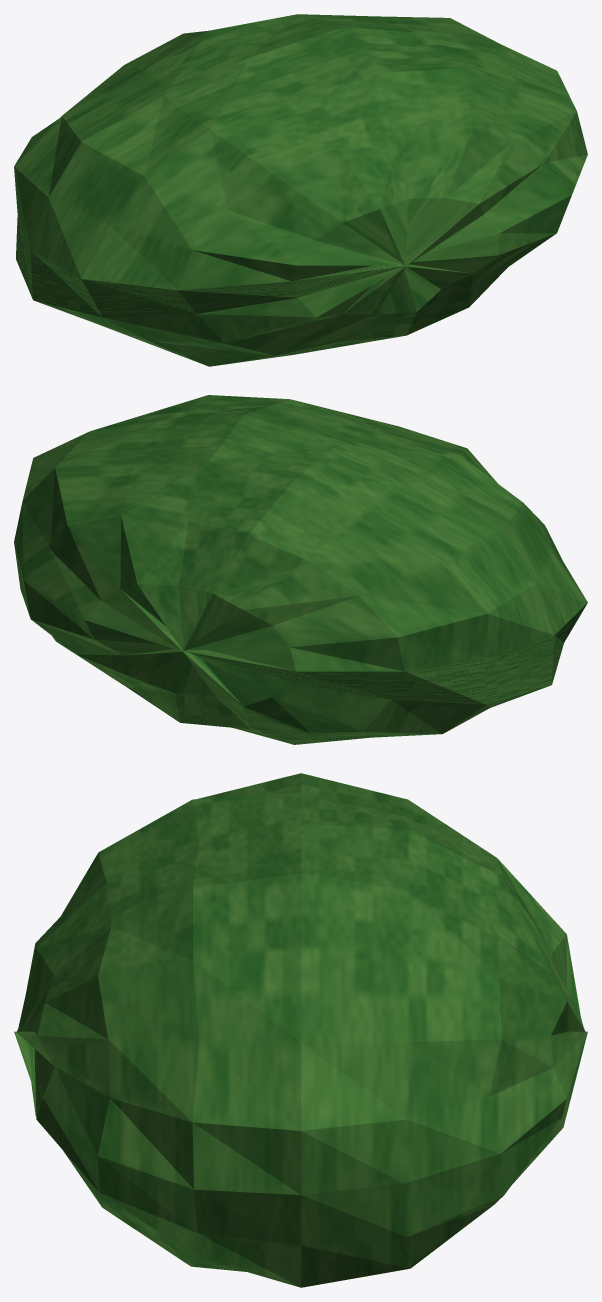
File: SM_ShHedge.obj
3 renders of one model, top to bottom at view 1: azimuth 30°, elevation 25°; view 2: azimuth 150°, elevation 25°; view 3: azimuth 270°, elevation 25°, orthographic. The views are drawn at different scales.
Parts seen in each view (by area): view 1: SM_ShHedge; view 2: SM_ShHedge; view 3: SM_ShHedge.
Boxes of the visible parts, left/top/right/bottom form: SM_ShHedge: left=14, top=14, right=587, bottom=366; SM_ShHedge: left=14, top=395, right=587, bottom=744; SM_ShHedge: left=14, top=773, right=587, bottom=1287.
Size of the model in its own units: 108 by 57.21 by 78.8.
1 material, 1 textured.
